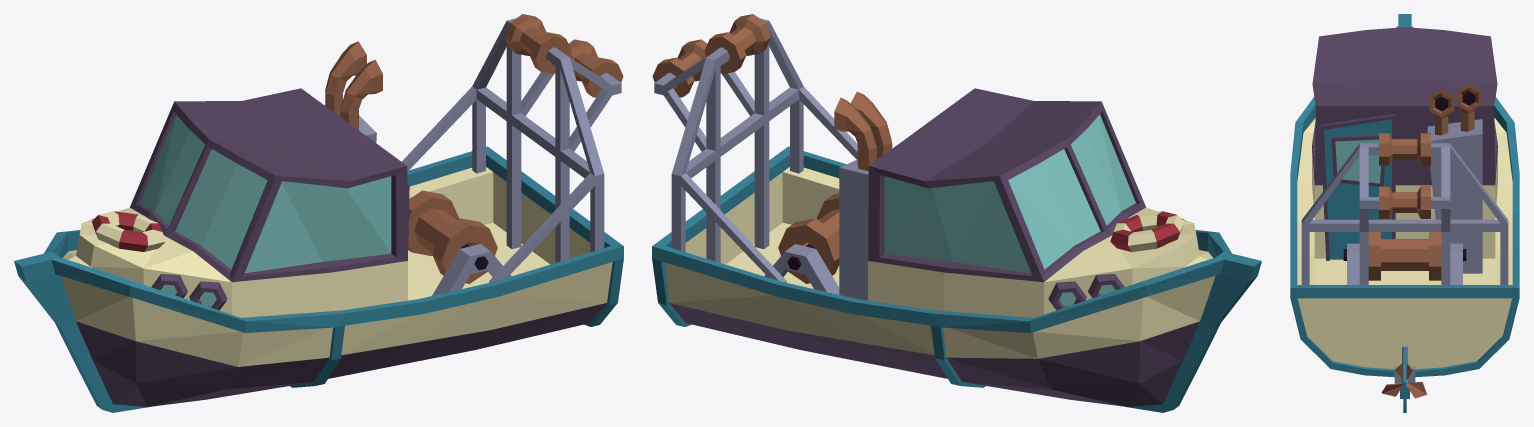
Rendered from Boat.fbx.
3 renders of one model, left to right at view 1: azimuth 30°, elevation 25°; view 2: azimuth 150°, elevation 25°; view 3: azimuth 270°, elevation 25°, orthographic. The views are drawn at different scales.
Visible parts, largest first — view 1: Boat, Wheel_03, Wheel_01, Exhaust_01, Exhaust_02, Wheel_02; view 2: Boat, Wheel_03, Wheel_01, Exhaust_01, Wheel_02, Exhaust_02; view 3: Boat, Wheel_03, Wheel_02, Wheel_01, Exhaust_01, Exhaust_02, Propeller.
Boxes of the visible parts, x1,y1,x2,y2 form: Boat: (14, 18, 623, 412); Wheel_03: (408, 190, 497, 283); Wheel_01: (505, 14, 571, 73); Exhaust_01: (325, 41, 366, 116); Exhaust_02: (340, 59, 382, 129); Wheel_02: (568, 39, 623, 97); Boat: (652, 18, 1261, 412); Wheel_03: (778, 193, 839, 283); Wheel_01: (704, 14, 770, 73); Exhaust_01: (834, 97, 876, 170); Wheel_02: (652, 39, 707, 97); Exhaust_02: (850, 91, 892, 159); Boat: (1290, 14, 1519, 412); Wheel_03: (1343, 232, 1466, 280); Wheel_02: (1379, 186, 1430, 218); Wheel_01: (1379, 133, 1430, 165); Exhaust_01: (1457, 84, 1481, 131); Exhaust_02: (1429, 89, 1453, 135); Propeller: (1381, 362, 1426, 398).
Size of the model in its own units: 10.38 by 5.16 by 4.16.
